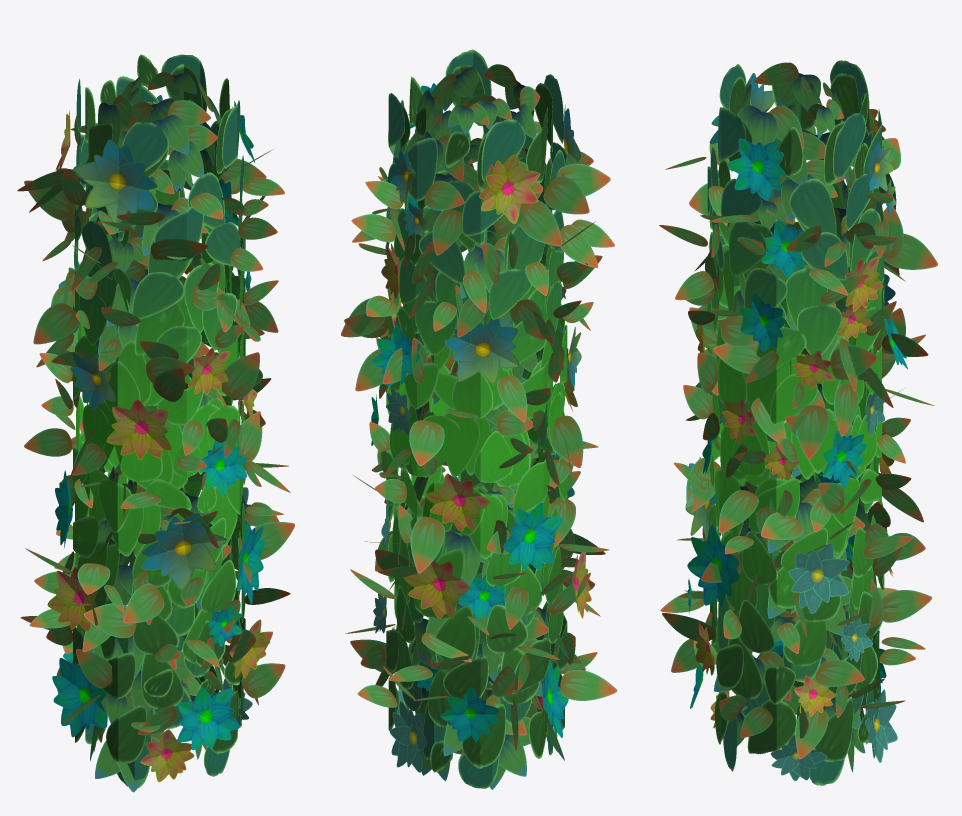
Rendered from 2_Vidrio_Capsula.fbx.
3 renders of one model, left to right at view 1: azimuth 30°, elevation 25°; view 2: azimuth 150°, elevation 25°; view 3: azimuth 270°, elevation 25°, orthographic.
Visible parts, largest first — view 1: Hojas_Capsula; view 2: Hojas_Capsula; view 3: Hojas_Capsula.
Boxes of the visible parts, left/top/right/bottom form: Hojas_Capsula: left=17, top=54, right=294, bottom=792; Hojas_Capsula: left=341, top=49, right=617, bottom=789; Hojas_Capsula: left=659, top=60, right=937, bottom=785.
Bounding box in the file's own units: 75.64 × 192 × 74.07.
